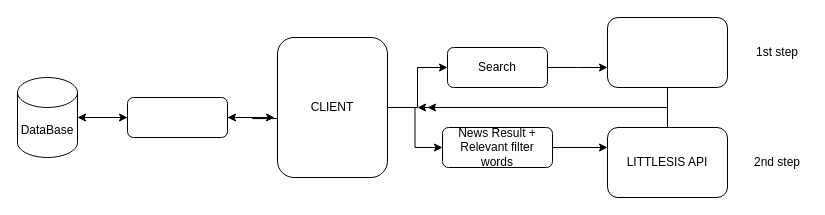
Image size: 825x215. Some labels were removed from this diagram. The centre of each missing label's shape, as x and y in pixels:
"NEWS API" goes at [667,52].
"User settings + ads" goes at [177,117].
